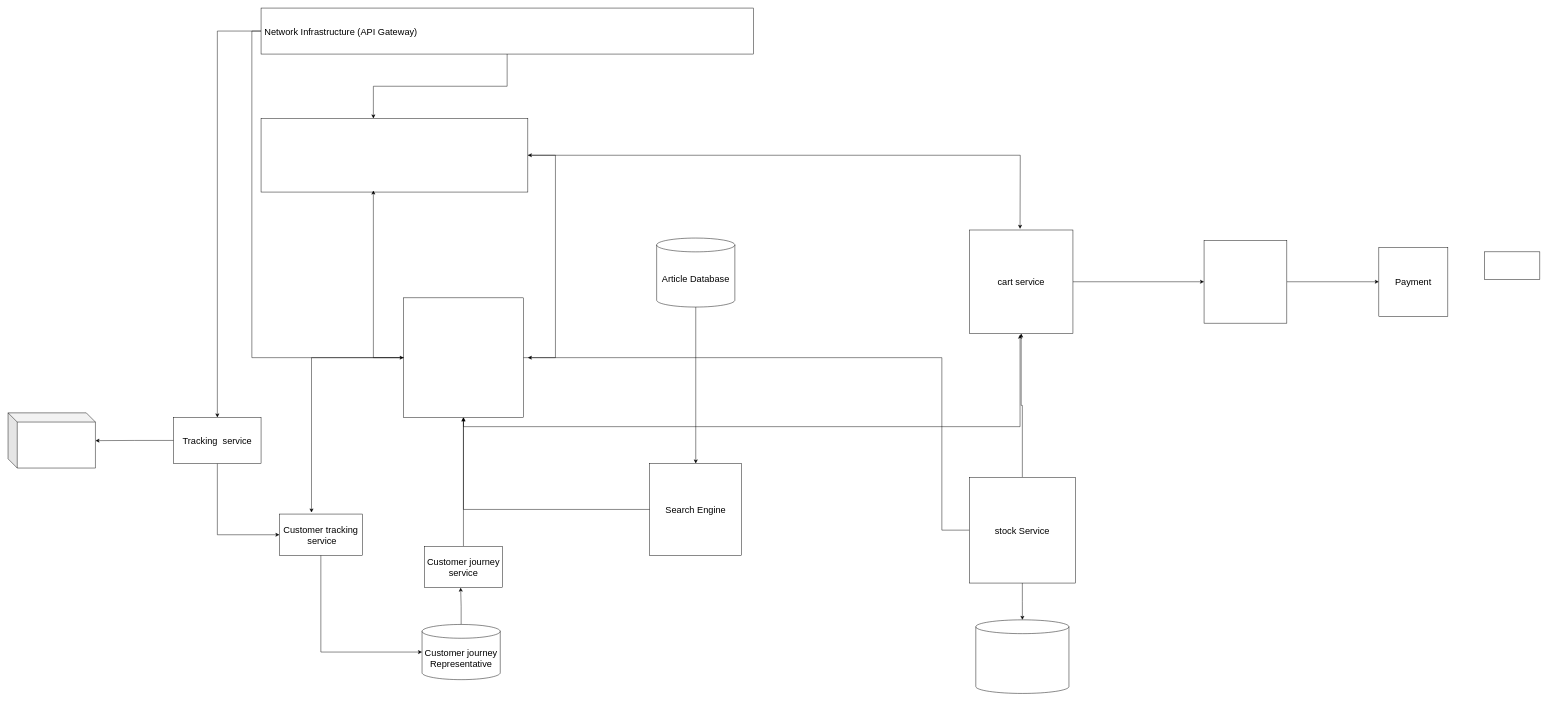
The diagram is 1548 pixels wide and 702 high, and some of its shapes have lost their labels. The box of each missing label's shape, as (x1, y1, x2, y2) in pixels:
Checkout: (1204, 240, 1287, 323)
Customer IAM - Customer Registration -: (261, 118, 528, 192)
Google ADs: (8, 412, 95, 468)
Product Detail Page(PDP): (403, 297, 523, 417)
Stock DB: (975, 619, 1069, 693)
